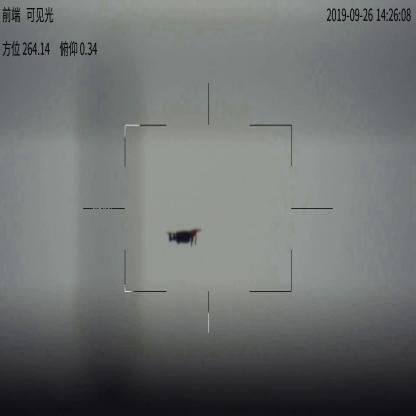uav: (161, 225, 204, 249)
